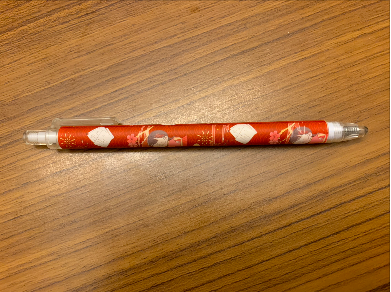object_name: (12, 98, 386, 165)
